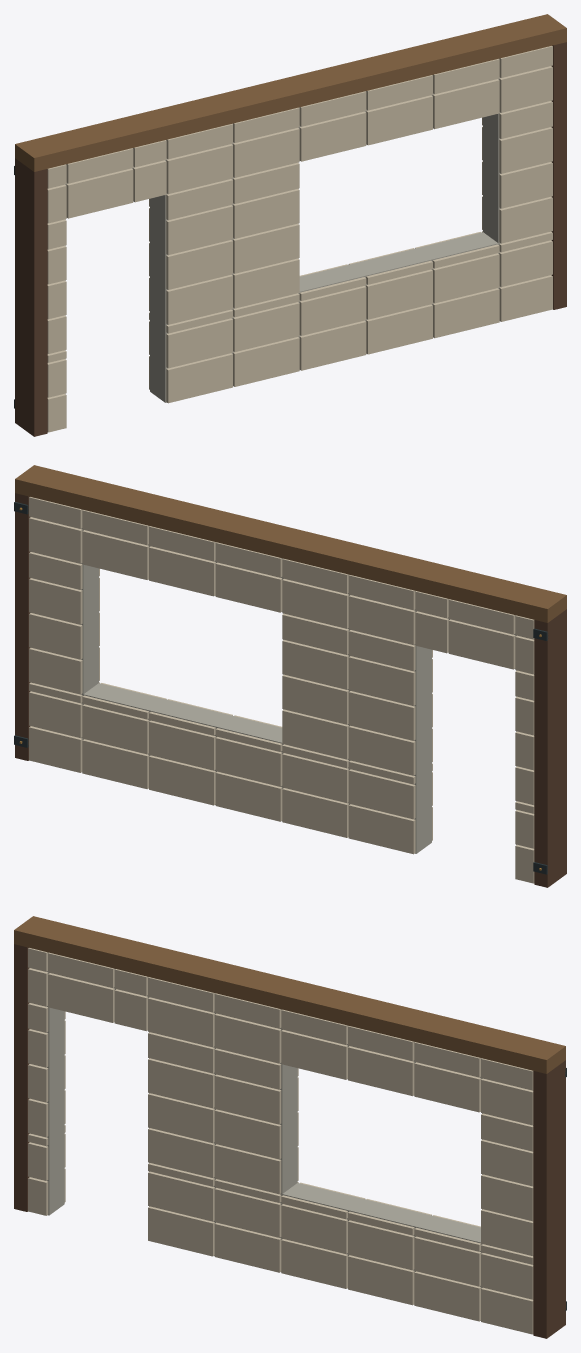
3 renders of one model, top to bottom at view 1: azimuth 30°, elevation 25°; view 2: azimuth 150°, elevation 25°; view 3: azimuth 330°, elevation 25°, orthographic.
Visible parts, largest first — view 1: 共享墙面用途 · bank; view 2: 共享墙面用途 · bank; view 3: 共享墙面用途 · bank.
Boxes of the visible parts, x1=… form: 共享墙面用途 · bank: x1=14, y1=14, x2=566, y2=436; 共享墙面用途 · bank: x1=14, y1=465, x2=566, y2=887; 共享墙面用途 · bank: x1=14, y1=916, x2=566, y2=1338.
Size of the model in its own units: 6.4 by 3.2 by 0.44.
Materials: 6 (6 with a texture image).
